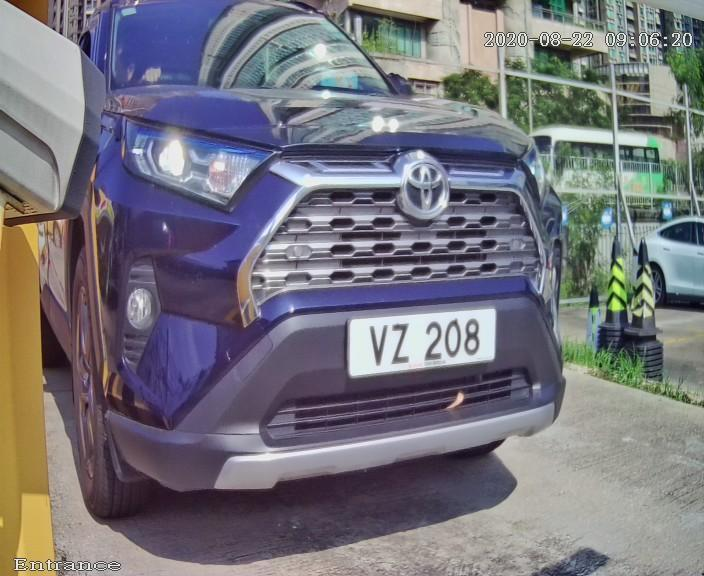Car: (19, 13, 613, 541)
License Plate: (340, 296, 503, 384)
